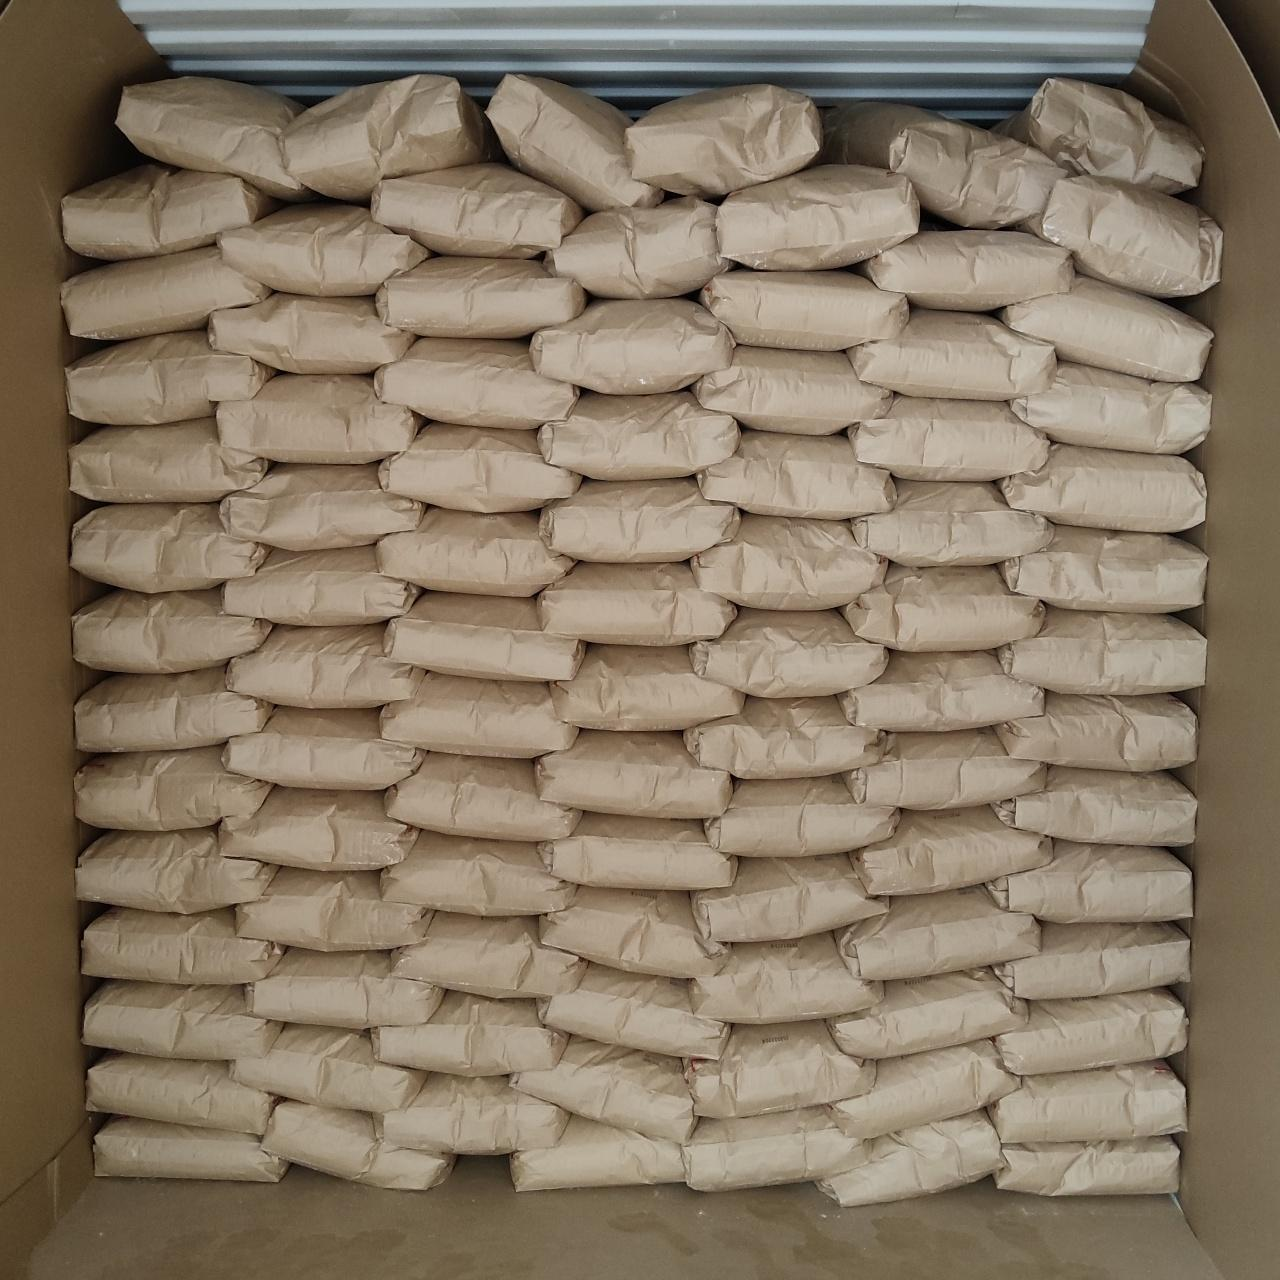sack: (826, 102, 1064, 226), (280, 76, 492, 198), (1016, 176, 1220, 294), (116, 79, 309, 198), (998, 79, 1201, 190), (490, 76, 662, 207), (998, 278, 1212, 382), (626, 86, 821, 196), (719, 166, 918, 268), (64, 164, 275, 258), (372, 162, 580, 254), (836, 886, 1039, 980), (62, 246, 270, 338), (68, 331, 274, 422), (512, 1039, 694, 1142), (220, 204, 428, 294), (847, 309, 1054, 399), (1010, 362, 1210, 454), (532, 300, 734, 390), (1000, 444, 1204, 532), (546, 198, 728, 297), (376, 338, 574, 428), (692, 515, 886, 606), (998, 608, 1204, 694), (1000, 526, 1206, 612), (380, 422, 580, 510), (832, 1040, 1017, 1133), (855, 806, 1051, 894), (686, 1022, 870, 1116), (220, 376, 422, 462), (828, 968, 1028, 1054), (540, 964, 726, 1056), (377, 508, 572, 595), (858, 230, 1073, 309), (540, 392, 736, 478), (222, 464, 422, 549), (697, 433, 894, 518), (72, 504, 266, 590), (694, 346, 890, 430), (690, 610, 886, 694), (74, 666, 270, 750), (70, 418, 268, 502), (263, 1102, 452, 1189), (818, 1112, 998, 1204), (386, 594, 583, 678), (692, 934, 878, 1022), (852, 482, 1051, 564), (76, 828, 275, 910), (76, 745, 270, 830), (847, 396, 1046, 478), (386, 754, 578, 838), (694, 856, 886, 940), (994, 765, 1194, 846), (700, 270, 906, 348), (74, 588, 270, 670), (232, 1026, 422, 1110), (382, 832, 574, 915), (842, 566, 1042, 646), (372, 992, 566, 1074), (536, 731, 730, 813), (207, 294, 414, 372), (394, 912, 583, 996), (224, 708, 422, 788), (986, 840, 1190, 918), (382, 674, 574, 756), (542, 888, 726, 974), (377, 258, 584, 334), (220, 788, 414, 869), (538, 564, 734, 644), (552, 646, 742, 728), (238, 869, 430, 949), (998, 990, 1186, 1073), (990, 1062, 1184, 1142), (88, 1051, 275, 1133), (842, 652, 1042, 728), (82, 906, 282, 982), (542, 481, 738, 558), (229, 626, 422, 704), (84, 980, 278, 1058), (996, 694, 1196, 770), (846, 730, 1044, 806), (686, 697, 881, 774), (224, 546, 418, 622), (706, 776, 894, 855), (246, 949, 440, 1026), (685, 1108, 864, 1190), (376, 1074, 566, 1150), (994, 924, 1189, 998), (540, 813, 734, 886), (512, 1116, 686, 1190), (94, 1118, 286, 1180), (996, 1138, 1178, 1194)
